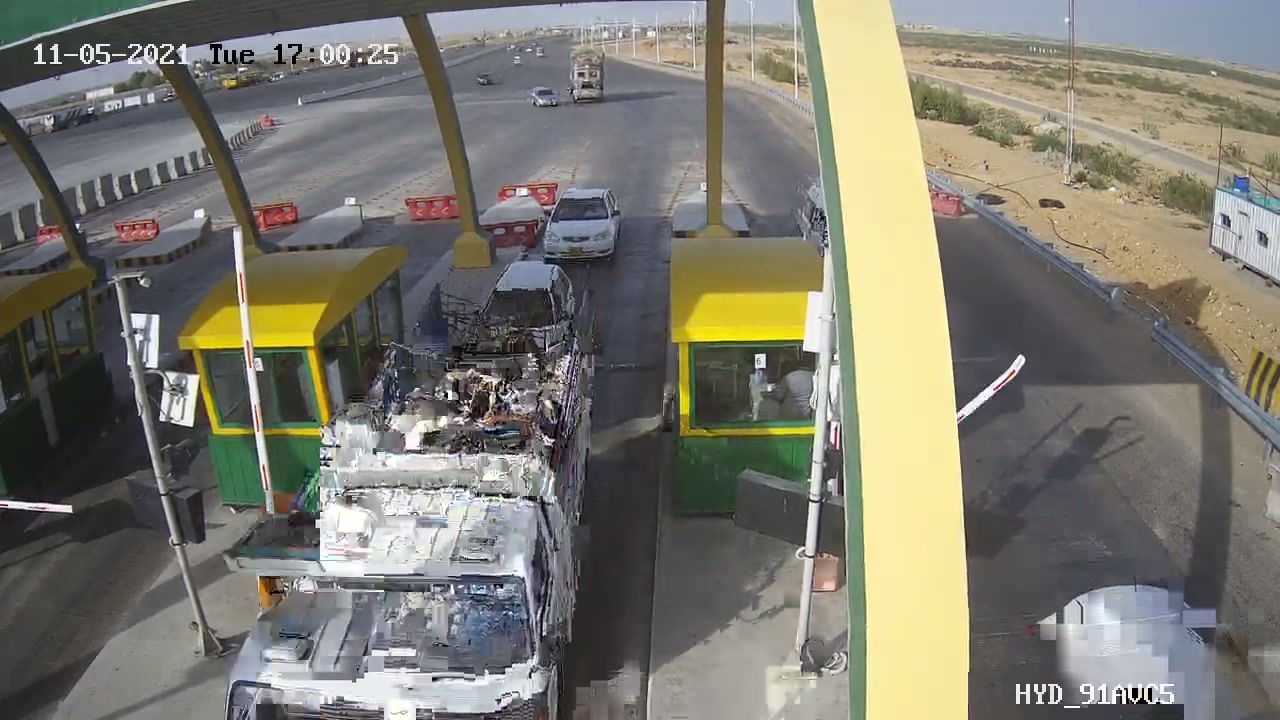F1: (530, 182, 633, 269)
